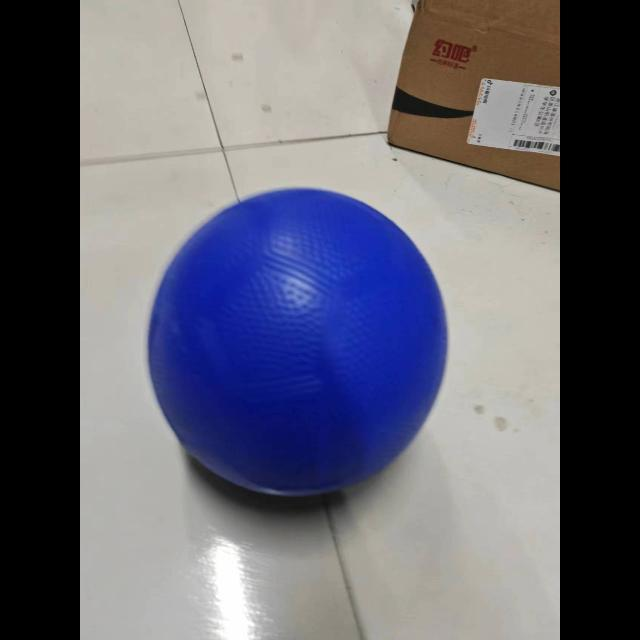B: (139, 178, 455, 516)
